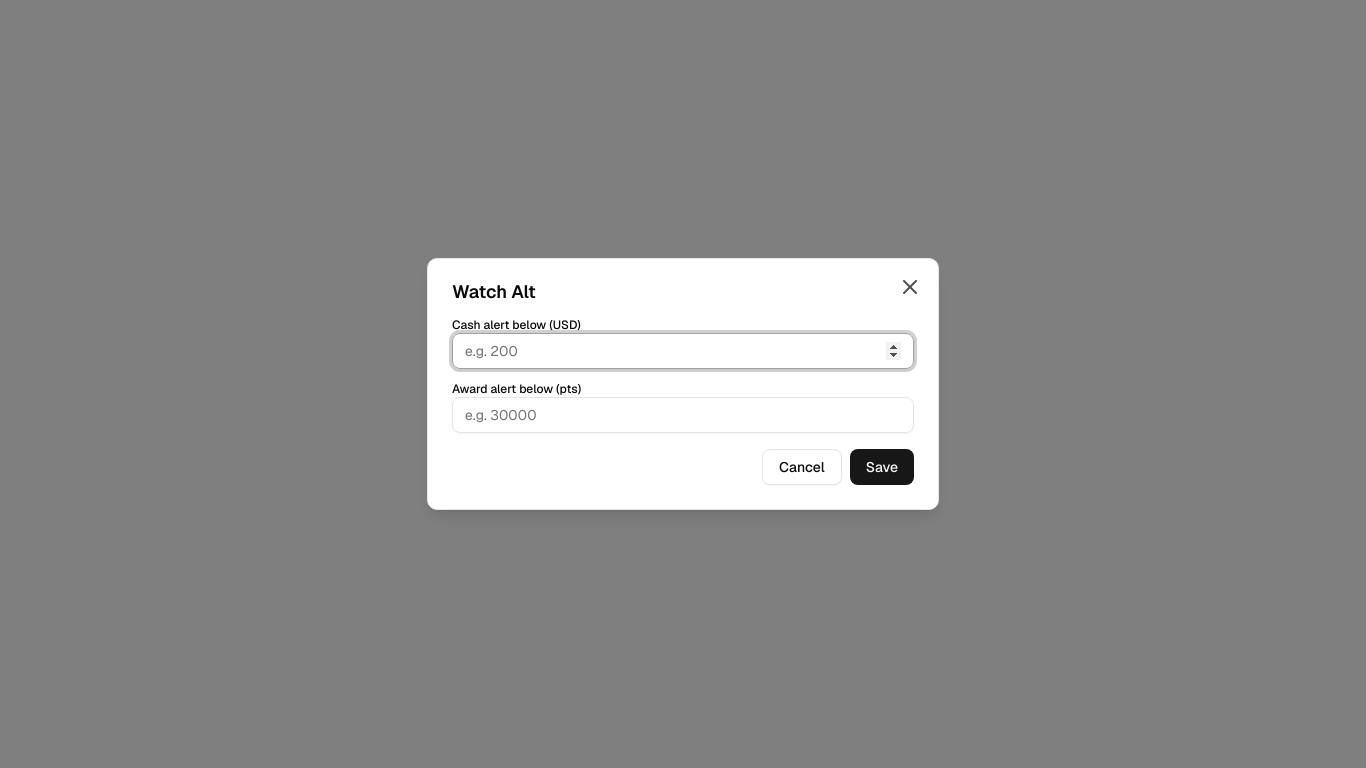
it: WatchAlternateModal › shows a validation error when no threshold is set
Click the button with test id "alt-save-button": (882, 467) [850,449,914,485]
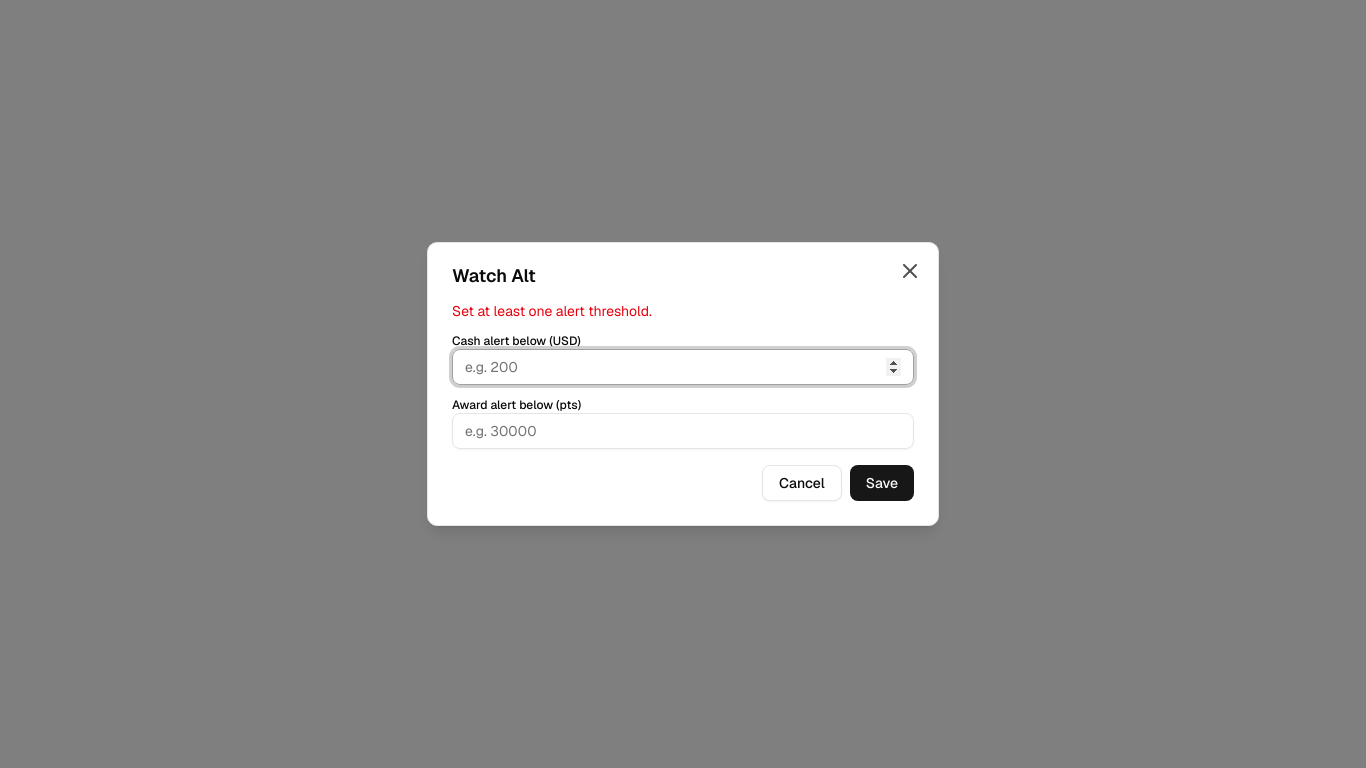
Expected: the text "Set at least one alert threshold." is shown, [452,302,652,320]
